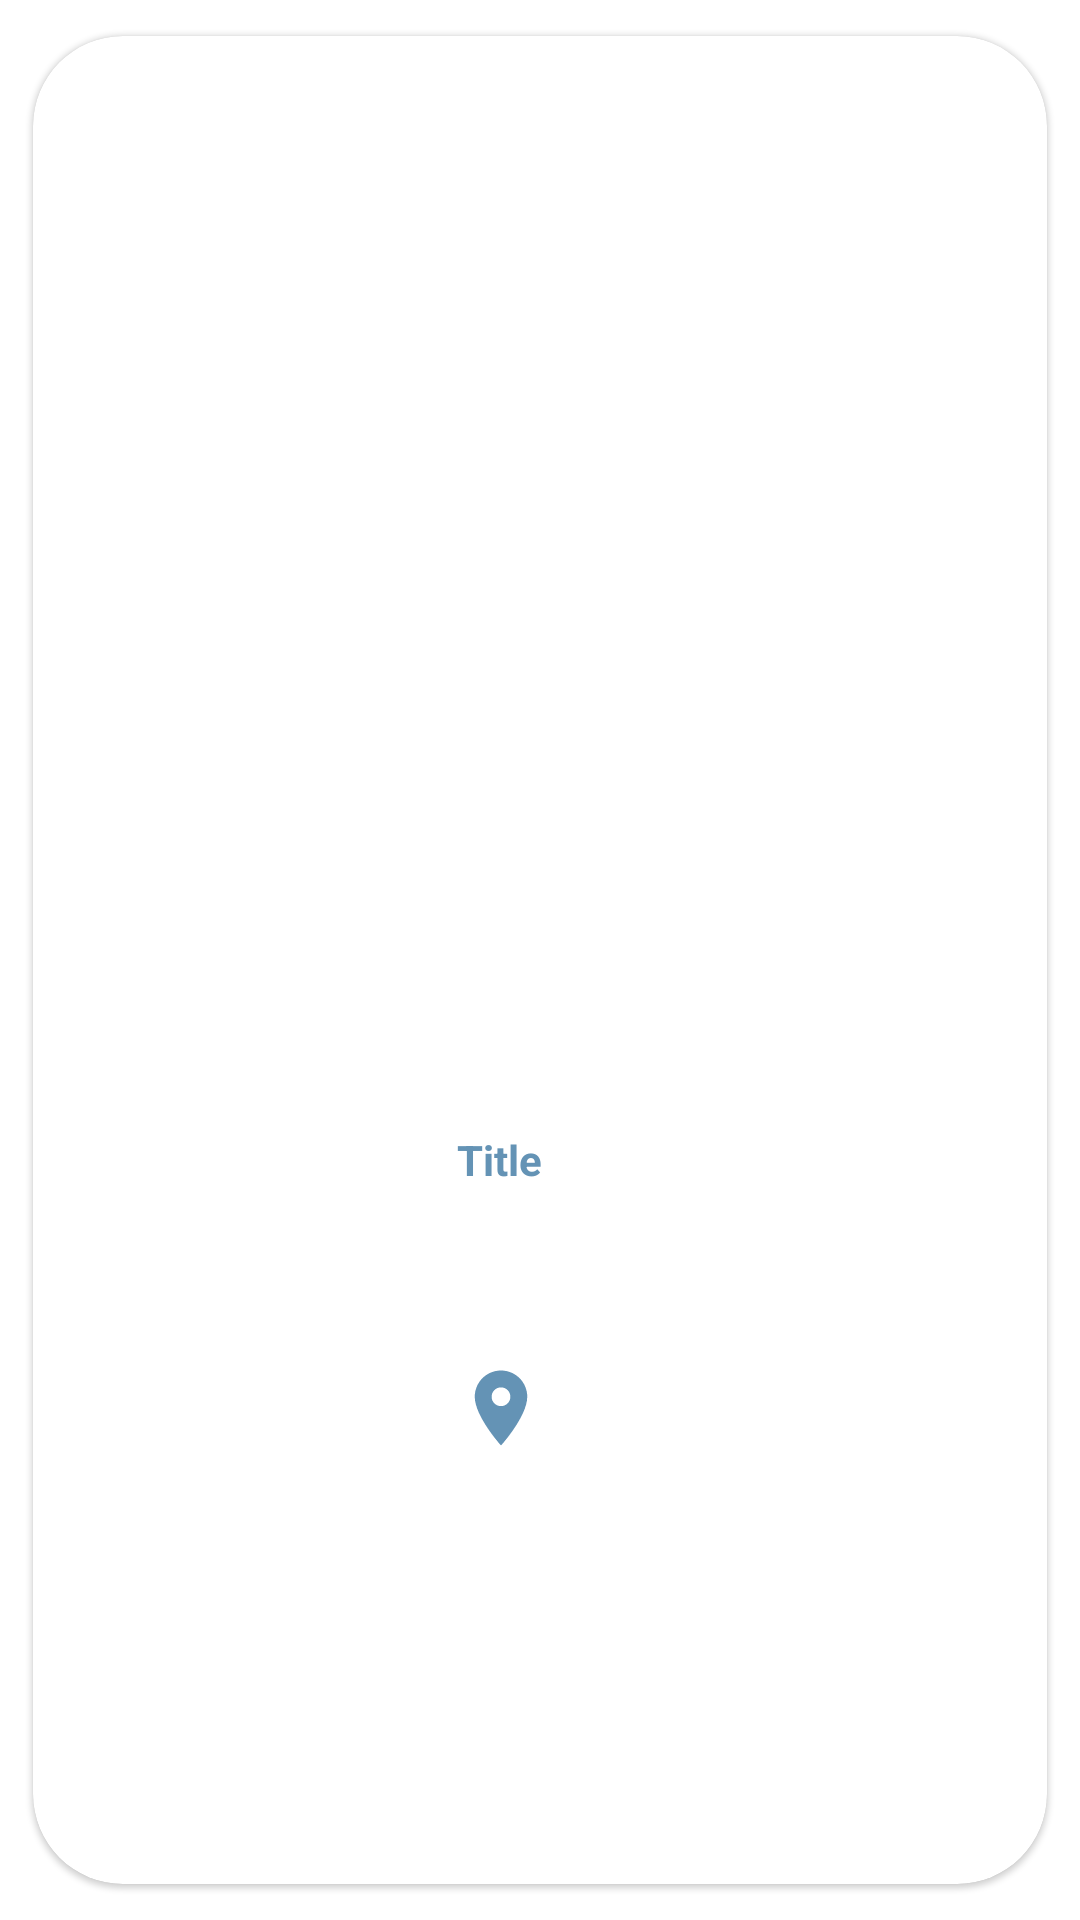

Icon bounding boxes for this 1080px x 1920px phone screenshot, format (x1, y1, x2, y2):
location: (474, 1370, 528, 1445)
